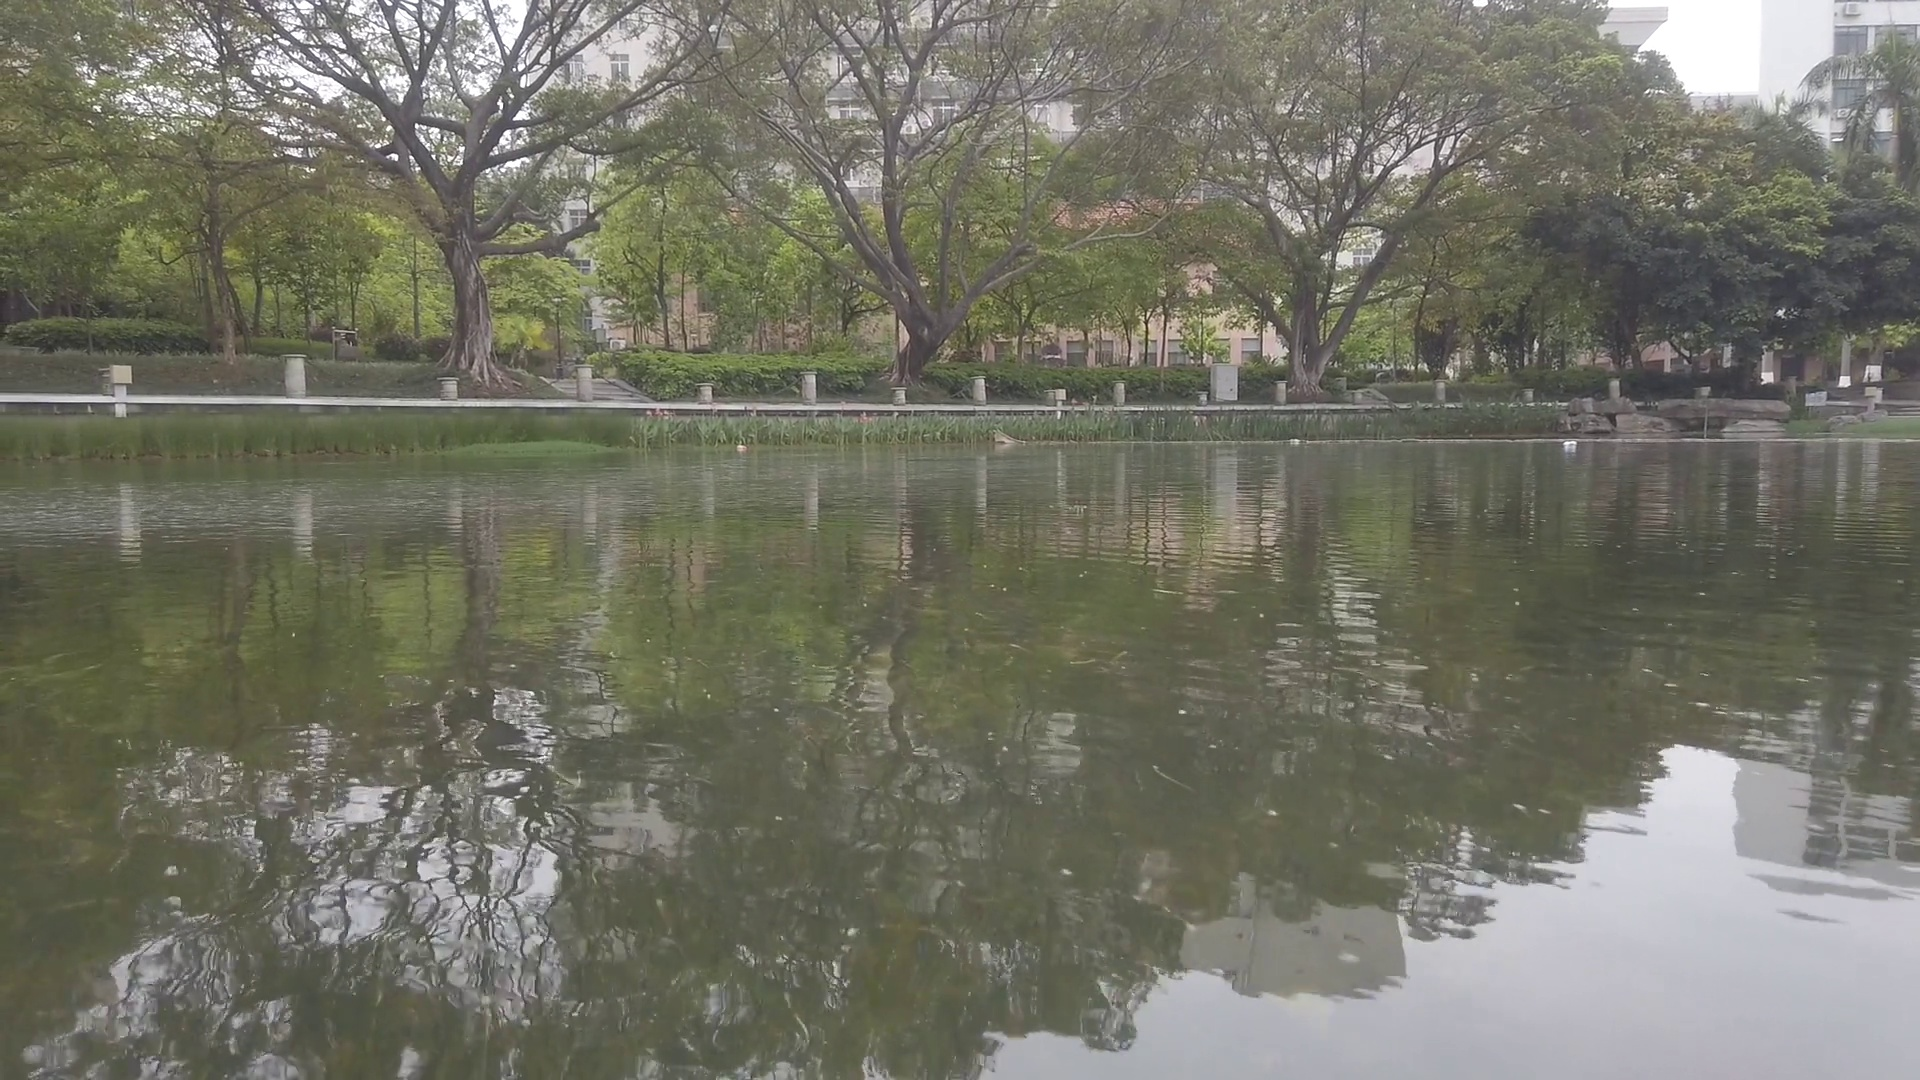bottle: (1288, 436, 1299, 444), (736, 444, 746, 450), (1563, 442, 1575, 446)
